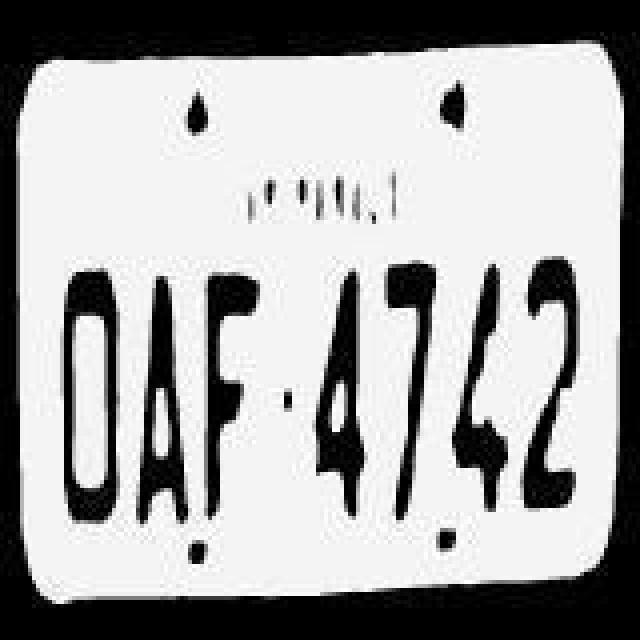2: (516, 230, 596, 538)
4: (298, 250, 374, 534), (446, 228, 514, 524)
7: (374, 238, 442, 530)
A: (128, 248, 192, 528)
F: (190, 254, 266, 522)
O: (36, 230, 124, 522)
